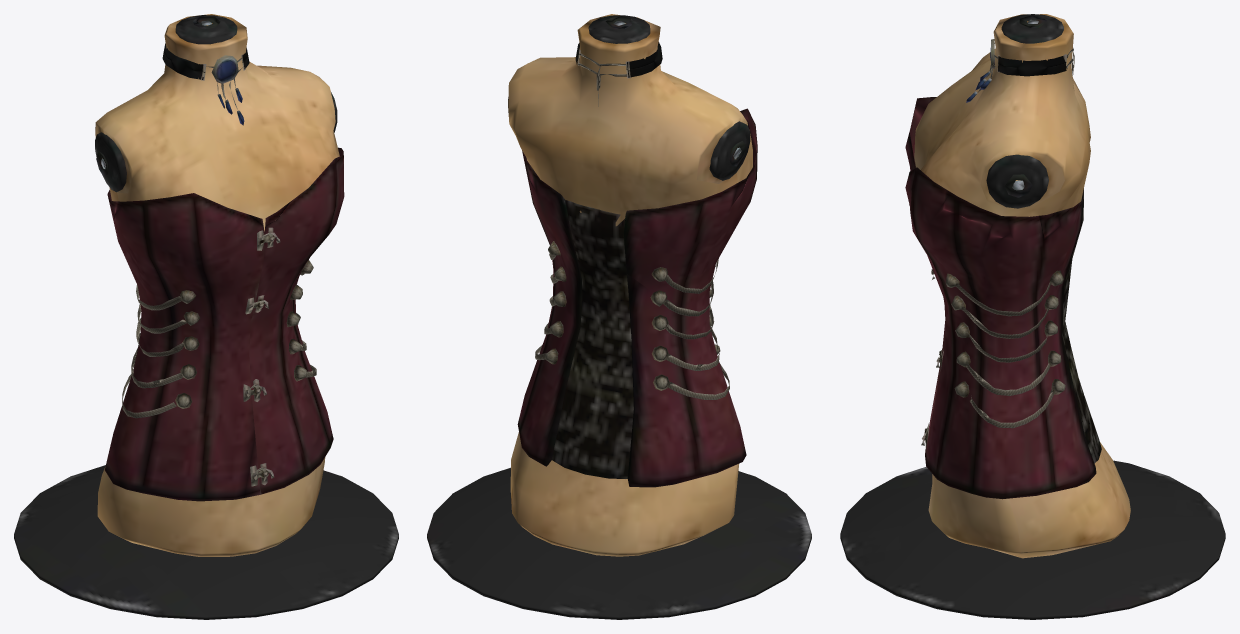
Rendered from Corset.glb.
The picture shows the model from 3 angles, left to right: view 1: azimuth 30°, elevation 25°; view 2: azimuth 150°, elevation 25°; view 3: azimuth 270°, elevation 25°; orthographic projection.
Visible parts, largest first — view 1: Corset; view 2: Corset; view 3: Corset.
Part boxes in pixels (bbox=[...]): Corset: bbox=[14, 14, 398, 619]; Corset: bbox=[427, 14, 811, 619]; Corset: bbox=[840, 14, 1225, 619].
Bounding box in the file's own units: 0.0389 × 0.0578 × 0.0389.
1 material, 1 textured.
